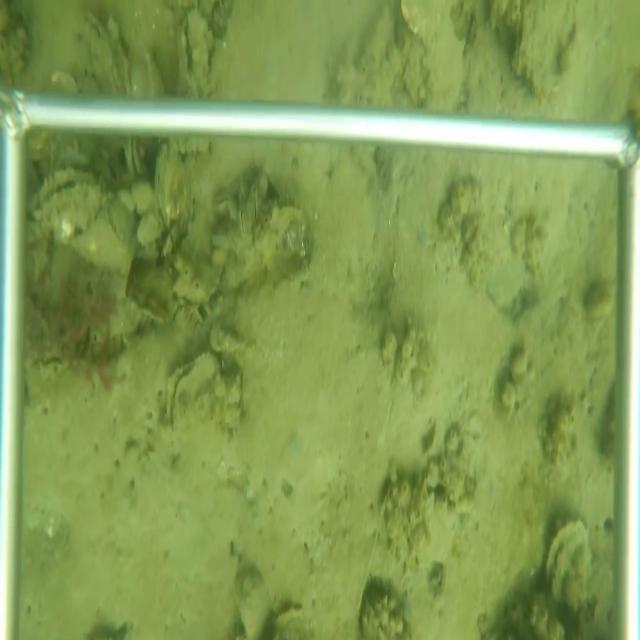Oyster-Closed: (542, 516, 594, 612), (84, 6, 128, 97), (153, 151, 190, 236), (209, 192, 235, 213)
Oyster-Open: (27, 168, 104, 242), (165, 349, 223, 438), (176, 7, 210, 98), (125, 138, 145, 177)
